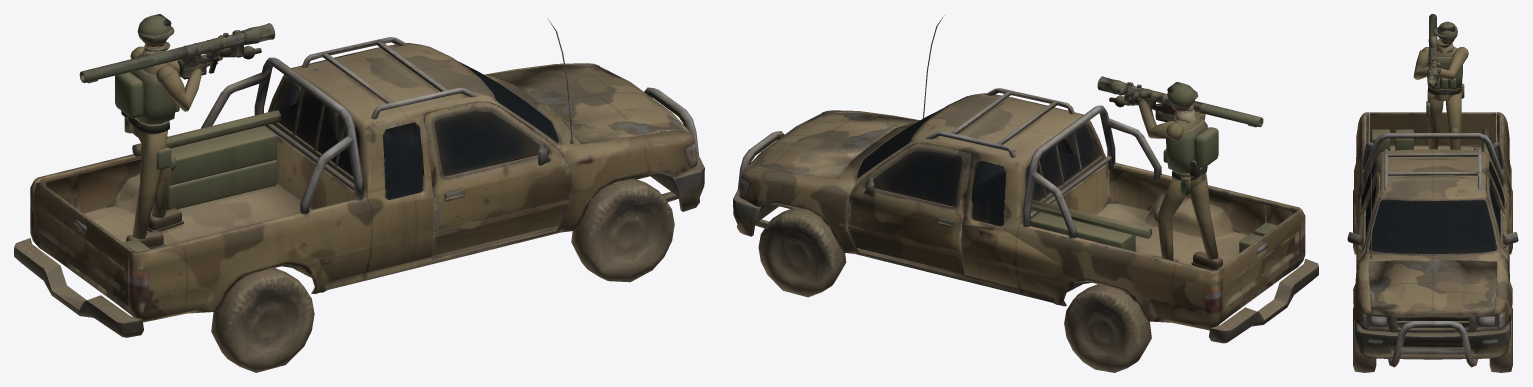
Rendered from fh_battle_e_convoy_manpads.glb.
The picture shows the model from 3 angles, left to right: view 1: azimuth 30°, elevation 25°; view 2: azimuth 150°, elevation 25°; view 3: azimuth 270°, elevation 25°; orthographic projection. The views are drawn at different scales.
Parts seen in each view (by area): view 1: convoy_manpads, wheel_1r, wheel_fr, launcher; view 2: convoy_manpads, wheel_1l, wheel_fl, launcher; view 3: convoy_manpads, launcher, wheel_fl, wheel_fr, wheel_1l, wheel_1r.
Boxes of the visible parts, x1,y1,x2,y2 form: convoy_manpads: (14,14,704,337); wheel_1r: (211,268,314,372); wheel_fr: (571,178,674,282); launcher: (79,23,275,111); convoy_manpads: (733,15,1318,343); wheel_1l: (1064,284,1151,372); wheel_fl: (758,208,846,297); launcher: (1097,76,1263,138); convoy_manpads: (1347,21,1518,367); launcher: (1413,14,1467,88); wheel_fl: (1489,308,1512,372); wheel_fr: (1353,307,1376,372); wheel_1l: (1509,188,1512,254); wheel_1r: (1353,189,1356,254).
Bounding box in the file's own units: 1 × 0.4983 × 0.3618.
2 materials, 2 textured.
